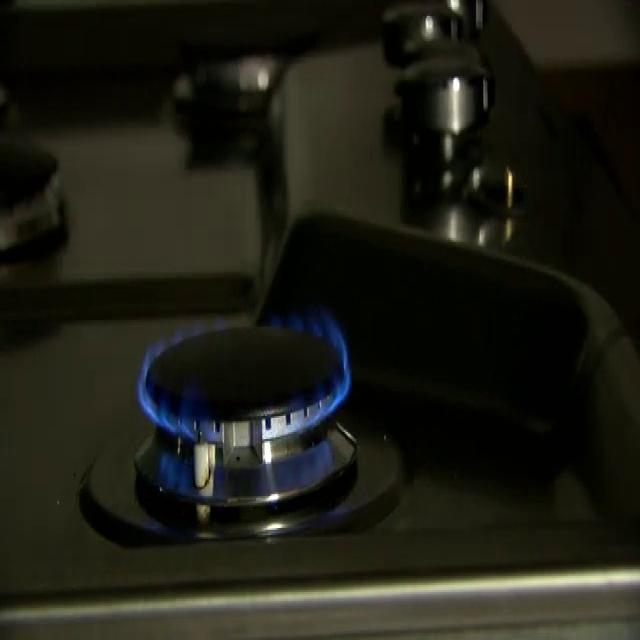fire: (120, 267, 375, 513)
